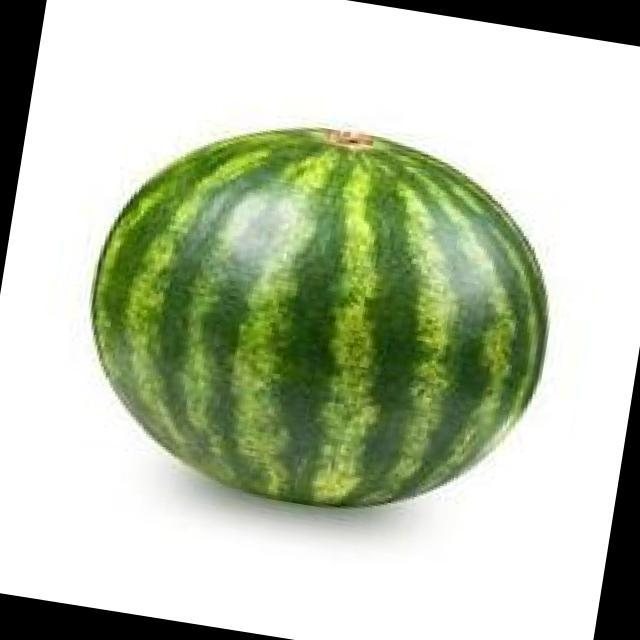watermelon: (92, 129, 546, 507)
